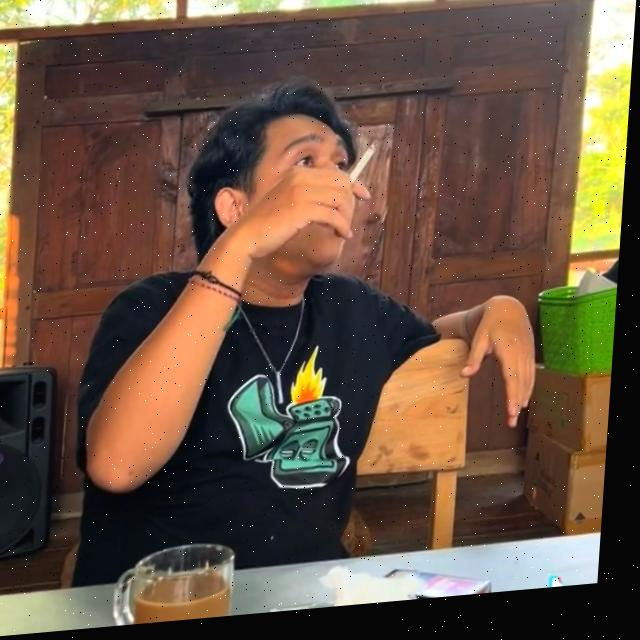cigarette: (352, 147, 381, 192)
